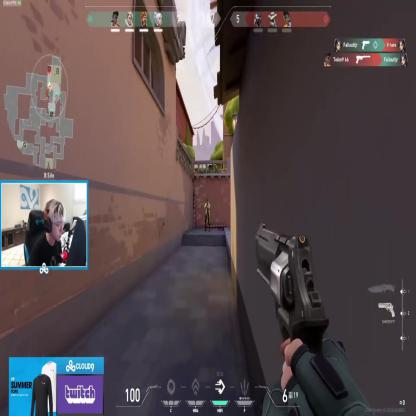enemy: (203, 198, 211, 230)
enemy_head: (206, 198, 209, 204)
